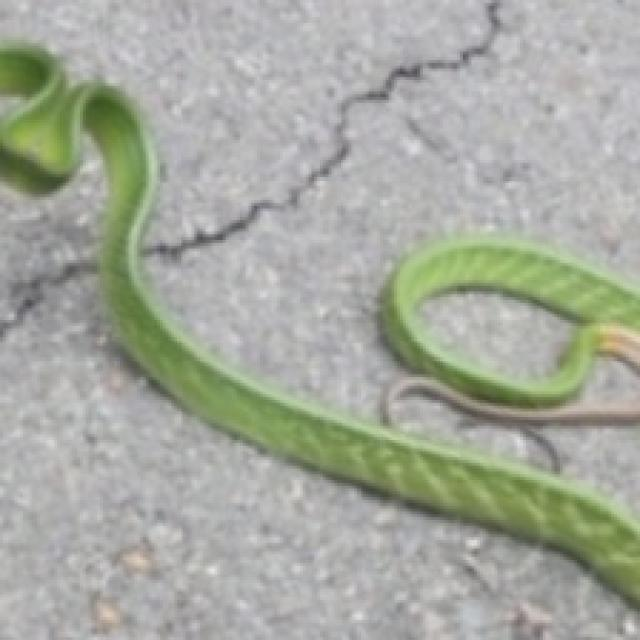red-tailed green ratsnake: (0, 46, 637, 600), (384, 238, 640, 423)
